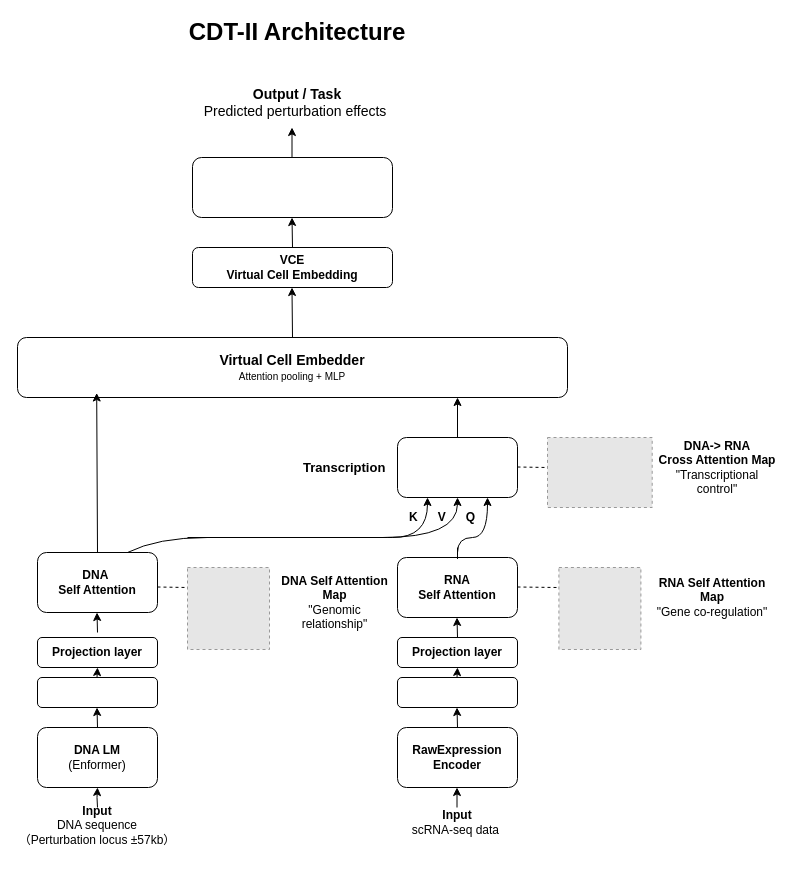
The diagram is 795 pixels wide and 878 high, and some of its shapes have lost their labels. Grey dashed boxes stand in for pictures. The shapes that lost their labels are listed below. From the top down, each one's box as (x1, y1, x2, y2) in pixels, then its label:
(192, 156, 392, 218): Task Head MLP
(396, 436, 518, 498): DNA -> RNA Cross Attention
(36, 676, 158, 708): DNA embedding
(396, 676, 518, 708): RNA embedding
